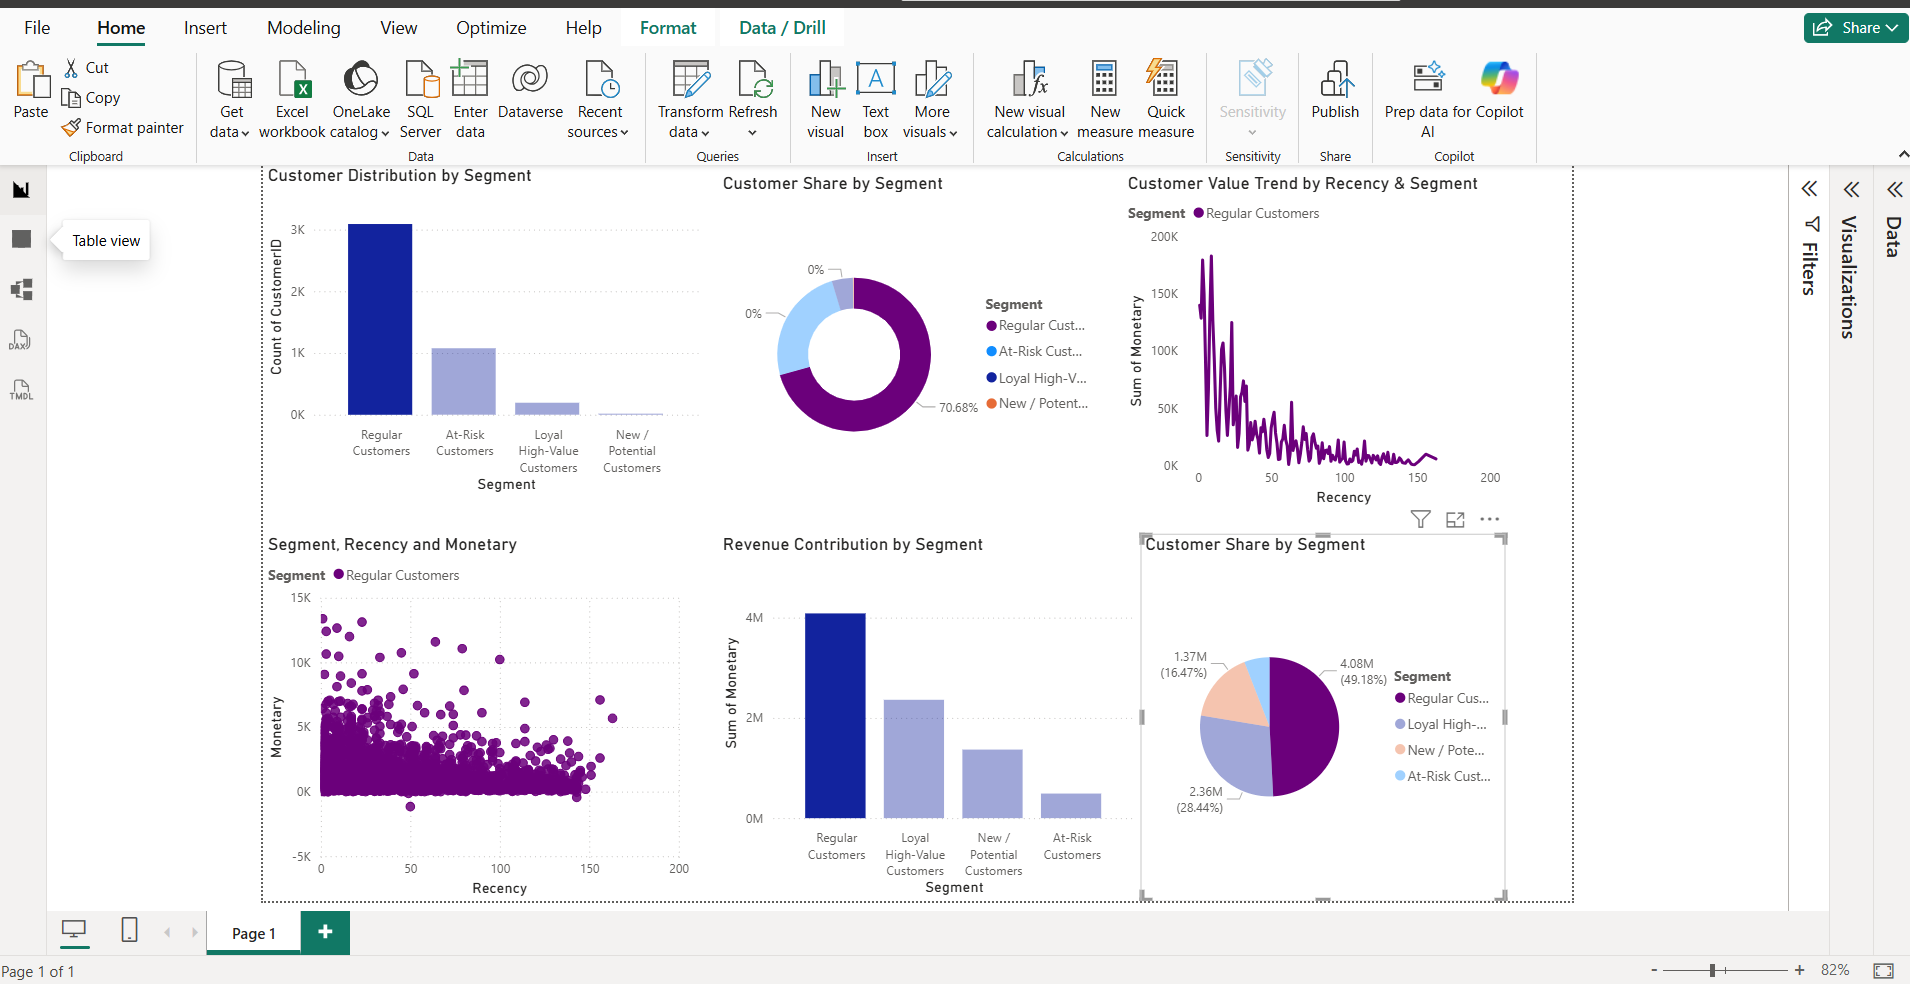

What the dashboard file says about the page in this screenshot:
{"tool":"powerbi","page":{"name":"Page 1","canvas":[1280,720],"ordinal":0},"visuals":[{"type":"columnChart","title":"Customer Distribution by Segment","fields":{"Category":["customer_segmentation_powerbi.Segment"],"Y":["CountNonNull(customer_segmentation_powerbi.CustomerID)"]},"box":[0,0,431.7,325.3],"z":0},{"type":"scatterChart","fields":{"X":["customer_segmentation_powerbi.Recency"],"Series":["customer_segmentation_powerbi.Segment"],"Y":["customer_segmentation_powerbi.Monetary"]},"box":[0,360.6,421.9,359.2],"z":1000},{"type":"columnChart","title":"Revenue Contribution by Segment ","fields":{"Category":["customer_segmentation_powerbi.Segment"],"Y":["Sum(customer_segmentation_powerbi.Monetary)"]},"box":[444.7,360.6,413.4,359.2],"z":2000},{"type":"donutChart","title":"Customer Share by Segment ","fields":{"Category":["customer_segmentation_powerbi.Segment"],"Y":["CountNonNull(customer_segmentation_powerbi.CustomerID)"]},"box":[432.2,13.7,376,337.6],"z":3000},{"type":"lineChart","title":"Customer Value Trend by Recency & Segment","fields":{"Category":["customer_segmentation_powerbi.Recency"],"Y":["Sum(customer_segmentation_powerbi.Monetary)"],"Series":["customer_segmentation_powerbi.Segment"]},"box":[841.3,13.5,374.2,324.1],"z":3001},{"type":"pieChart","title":"Customer Share by Segment","fields":{"Category":["customer_segmentation_powerbi.Segment"],"Y":["Sum(customer_segmentation_powerbi.Monetary)"]},"box":[858,361,358,359],"z":3002}]}

Visuals, with their boxes on the page's 1280x720 design canvas (x1, y1, x2, y2). These are canvas units, not pixel positions in the 1910x984 screenshot, which may show the page scaled, cropped or inside an application window:
"Customer Distribution by Segment" columnChart: {"x1": 0, "y1": 0, "x2": 432, "y2": 325}
scatterChart - customer_segmentation_powerbi.Recency x customer_segmentation_powerbi.Segment: {"x1": 0, "y1": 361, "x2": 422, "y2": 720}
"Revenue Contribution by Segment " columnChart: {"x1": 445, "y1": 361, "x2": 858, "y2": 720}
"Customer Share by Segment " donutChart: {"x1": 432, "y1": 14, "x2": 808, "y2": 351}
"Customer Value Trend by Recency & Segment" lineChart: {"x1": 841, "y1": 14, "x2": 1216, "y2": 338}
"Customer Share by Segment" pieChart: {"x1": 858, "y1": 361, "x2": 1216, "y2": 720}
